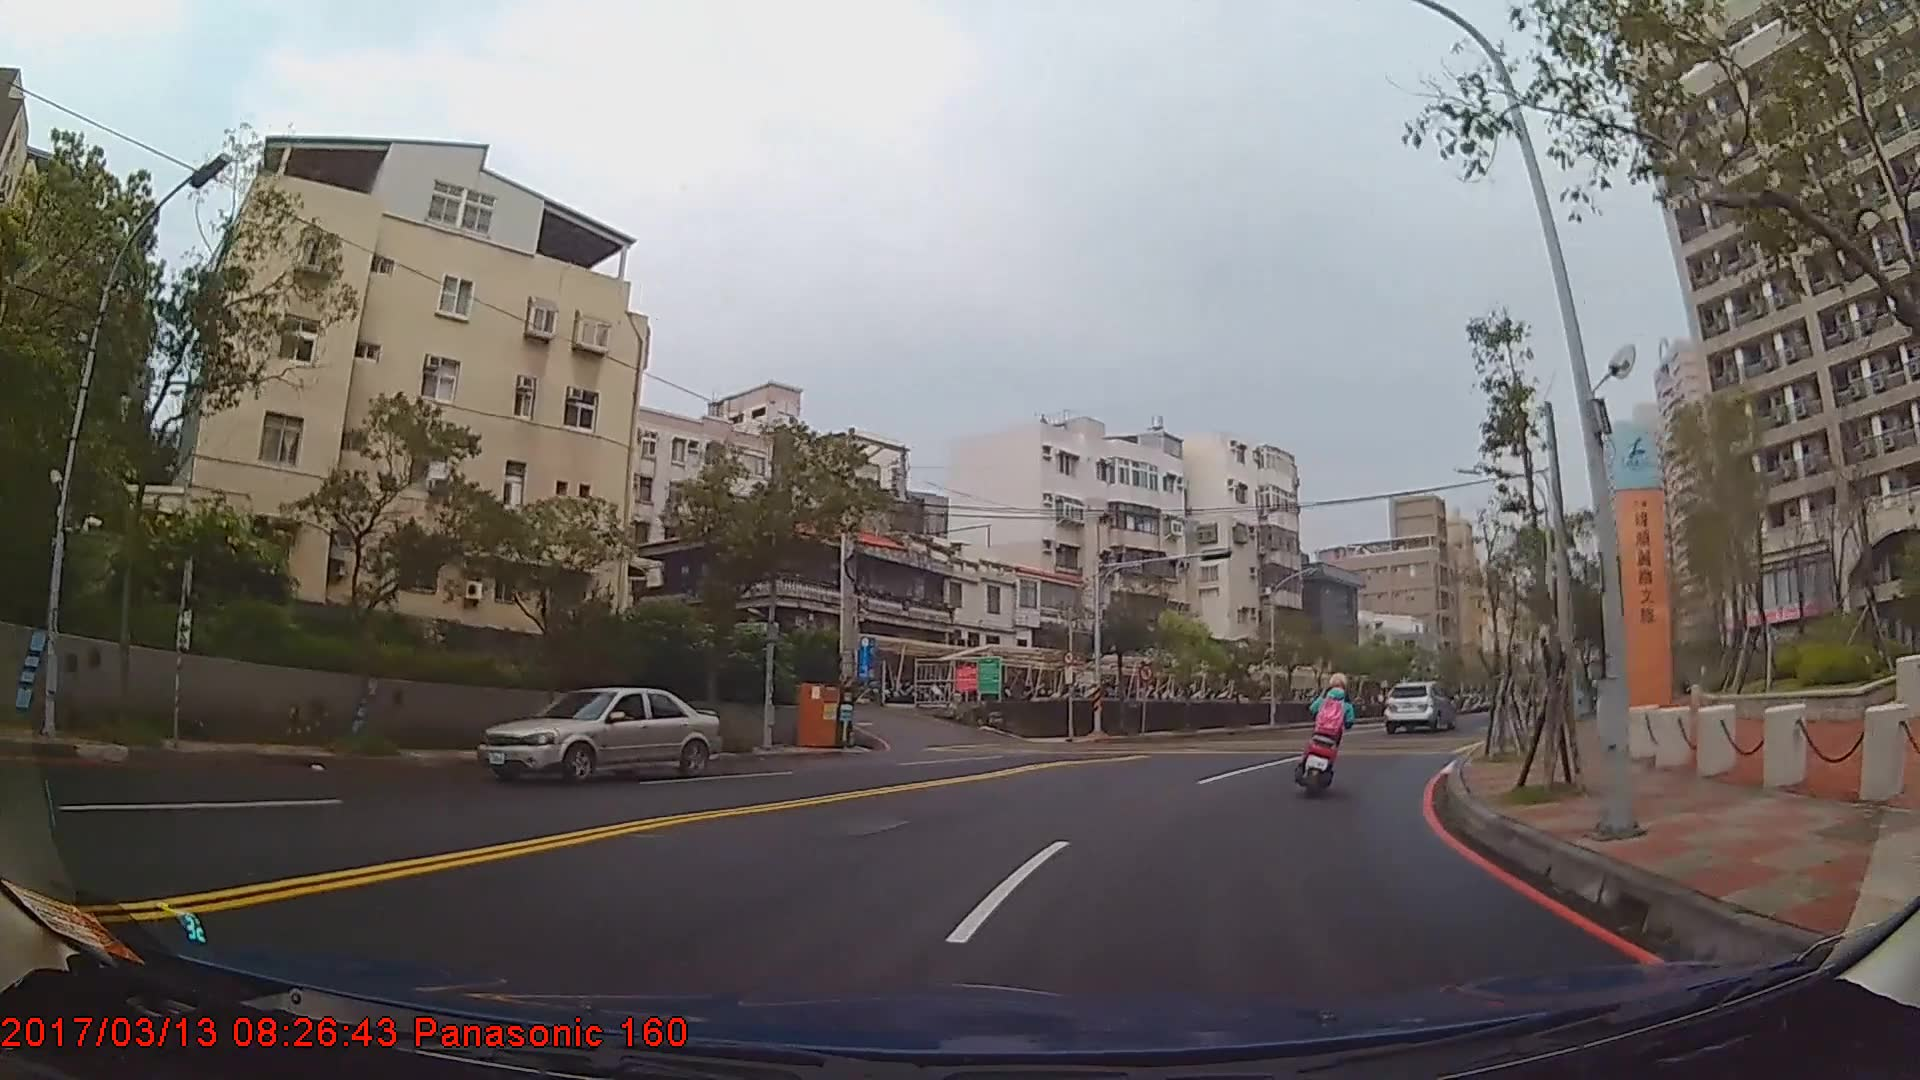rider: (1300, 674, 1359, 794)
vehicle: (477, 686, 721, 787), (1383, 678, 1451, 733)
